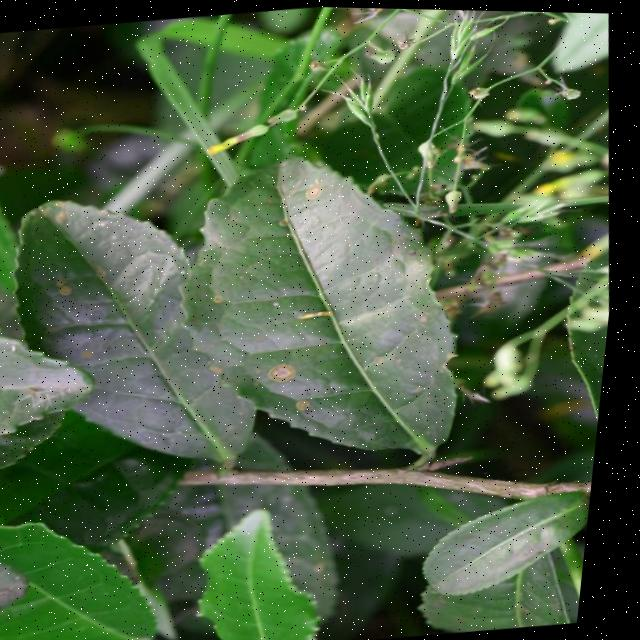Tea algae leaf spot: (176, 128, 375, 414)
